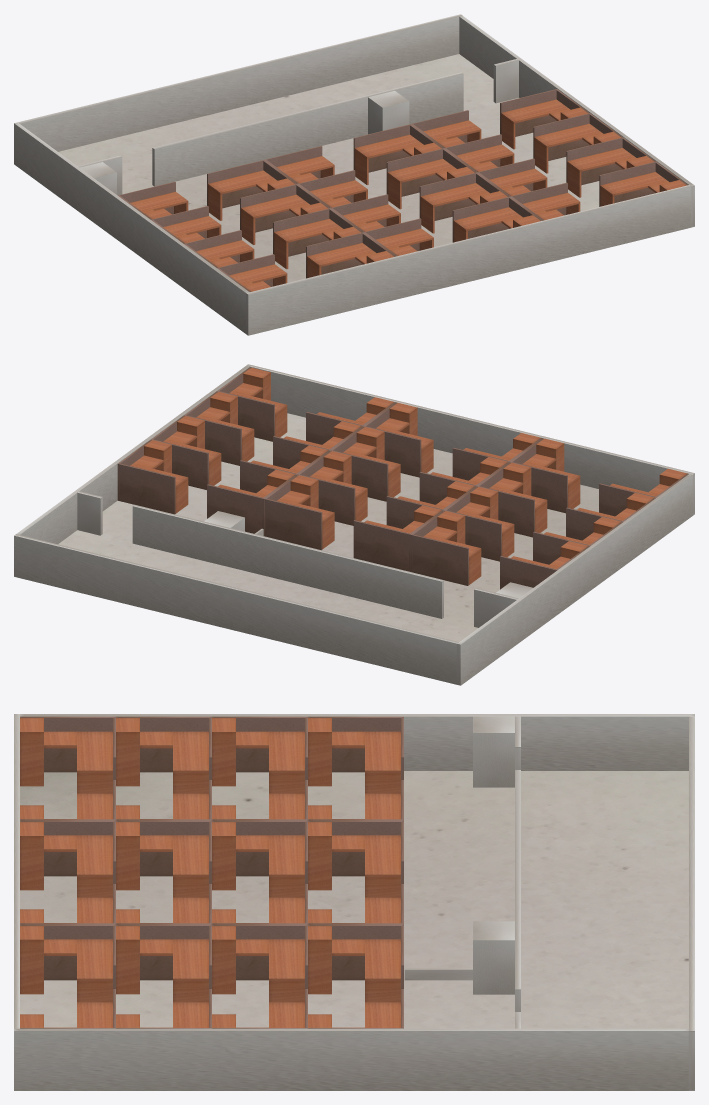
File: office_4.DAE
3 views of the same model, one above another, from view 1: azimuth 30°, elevation 25°; view 2: azimuth 150°, elevation 25°; view 3: azimuth 270°, elevation 25° (orthographic). The views are drawn at different scales.
Parts seen in each view (by area): view 1: Box010, Box007, Box008, Box015, Box011, Box009, Box155, Box350, Box373, Box359, Box001, Box231 (+45 smaller); view 2: Box008, Box007, Box015, Box011, Box010, Box009, Box283, Box359, Box001, Box215, Box340, Box360 (+33 smaller); view 3: Box007, Box009, Box011, Box155, Box154, Box008, Box253, Box216, Box265, Box259, Box341, Box335 (+61 smaller).
Part boxes in pixels (x1=…): Box010: x1=246, y1=185, x2=691, y2=335; Box007: x1=58, y1=54, x2=599, y2=282; Box008: x1=18, y1=14, x2=462, y2=151; Box015: x1=152, y1=72, x2=463, y2=186; Box011: x1=14, y1=122, x2=249, y2=333; Box009: x1=459, y1=15, x2=694, y2=227; Box155: x1=368, y1=90, x2=409, y2=134; Box350: x1=386, y1=148, x2=442, y2=196; Box373: x1=419, y1=173, x2=475, y2=220; Box359: x1=353, y1=124, x2=409, y2=172; Box001: x1=500, y1=89, x2=556, y2=136; Box231: x1=533, y1=113, x2=589, y2=160; Box008: x1=14, y1=534, x2=458, y2=684; Box007: x1=58, y1=413, x2=598, y2=641; Box015: x1=132, y1=505, x2=443, y2=618; Box011: x1=457, y1=474, x2=692, y2=685; Box010: x1=250, y1=365, x2=694, y2=515; Box009: x1=16, y1=364, x2=251, y2=544; Box283: x1=412, y1=534, x2=468, y2=585; Box359: x1=266, y1=498, x2=322, y2=550; Box001: x1=119, y1=463, x2=175, y2=514; Box215: x1=353, y1=520, x2=409, y2=571; Box340: x1=207, y1=484, x2=262, y2=533; Box360: x1=365, y1=426, x2=421, y2=477; Box007: x1=20, y1=771, x2=688, y2=1028; Box009: x1=14, y1=1028, x2=688, y2=1090; Box011: x1=20, y1=714, x2=694, y2=770; Box155: x1=473, y1=921, x2=514, y2=994; Box154: x1=473, y1=716, x2=514, y2=787; Box008: x1=689, y1=716, x2=694, y2=1090; Box253: x1=212, y1=820, x2=307, y2=876; Box216: x1=308, y1=820, x2=403, y2=876; Box265: x1=116, y1=820, x2=211, y2=876; Box259: x1=20, y1=820, x2=115, y2=876; Box341: x1=308, y1=924, x2=403, y2=980; Box335: x1=212, y1=924, x2=307, y2=980.
Size of the model in its own units: 1249 by 1134 by 110.
4 materials, 4 textured.
